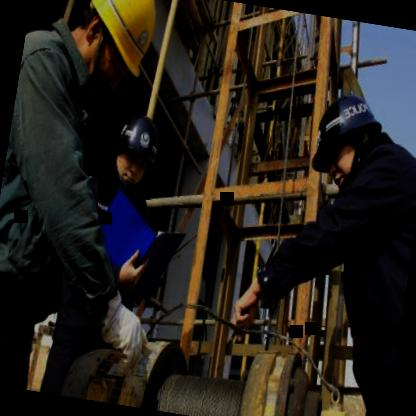helmet: (294, 63, 393, 203), (66, 0, 172, 107), (103, 104, 166, 203)
